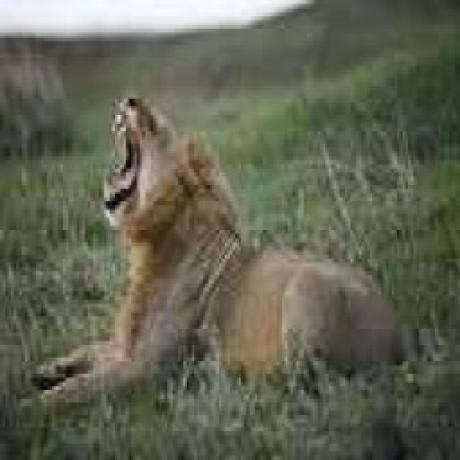Lion: (32, 92, 406, 408)
